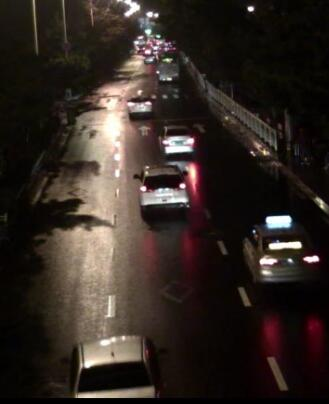bus: (158, 53, 179, 80)
car: (63, 333, 163, 400), (240, 215, 323, 284), (133, 165, 193, 212), (160, 123, 196, 155), (126, 93, 153, 118), (142, 50, 155, 66), (133, 41, 148, 52)
